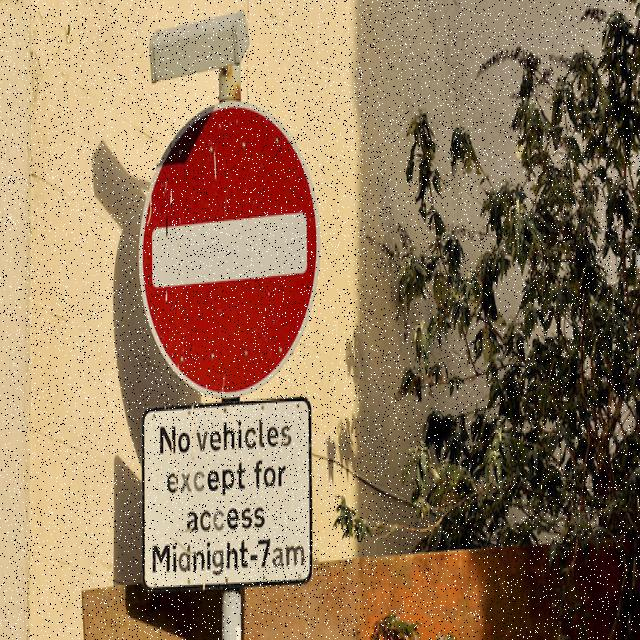no entry: (138, 100, 318, 397)
